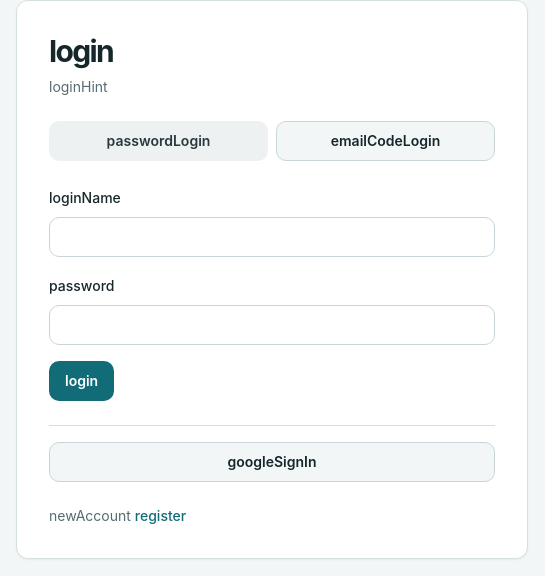
Scenario: shows available Google sign-in and explains that email codes are not open
Expected: the button "googleSignIn" is enabled, [49,442,495,482]
Click the button "emailCodeLogin" at (386, 141), box [276,121,495,161]
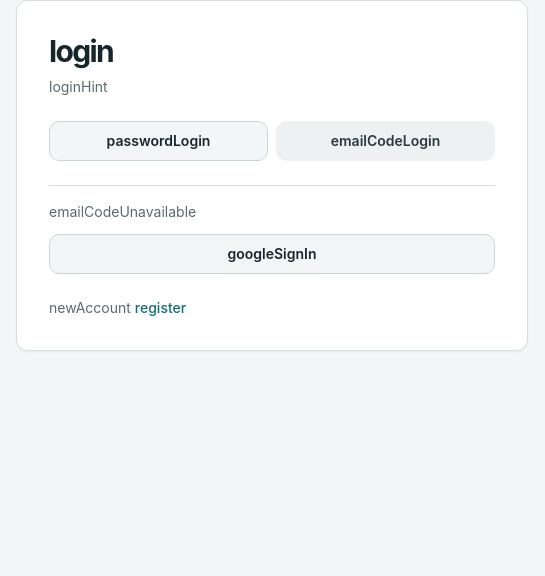
Result: the text "emailCodeUnavailable" is shown at [49,203,196,220]
